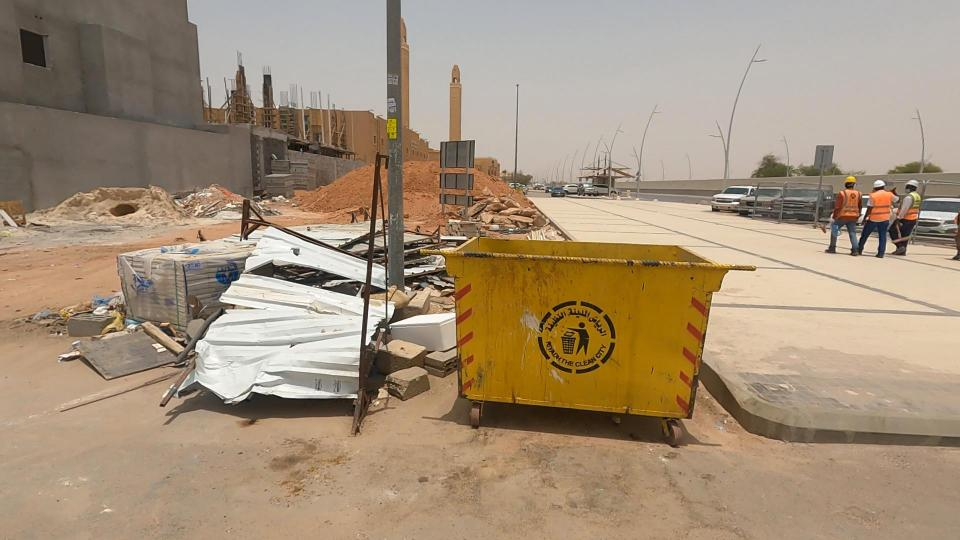SAND_ON_ROAD: (173, 174, 498, 485), (0, 272, 379, 468), (341, 176, 512, 401), (0, 237, 186, 407)
